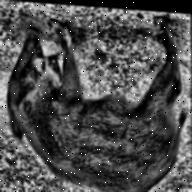boar: (1, 10, 186, 192)
